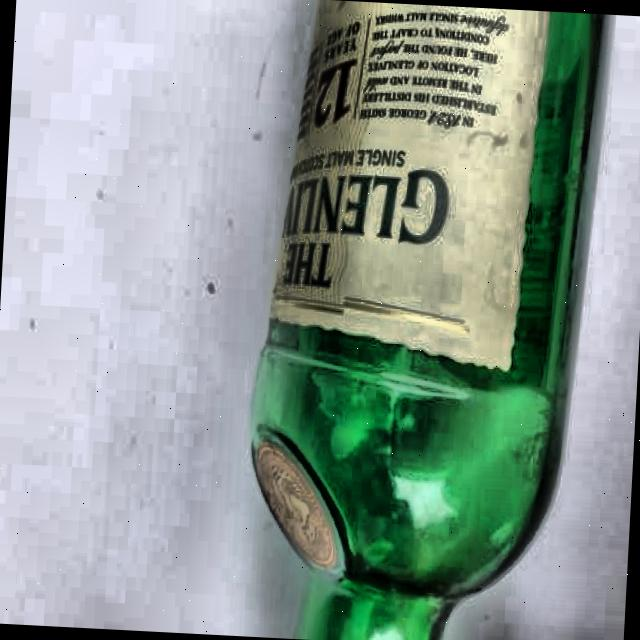glass: (233, 0, 615, 640)
